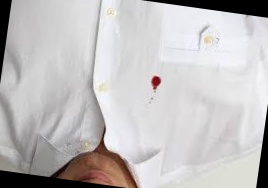blood: (149, 75, 162, 88)
